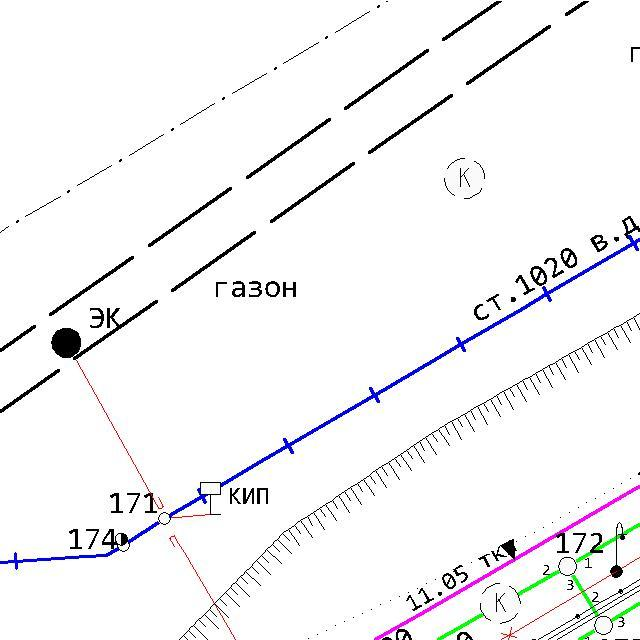bushes: (442, 156, 488, 201), (478, 581, 522, 625)
sing: (198, 480, 224, 518)
well: (556, 555, 579, 578), (593, 614, 615, 637)
